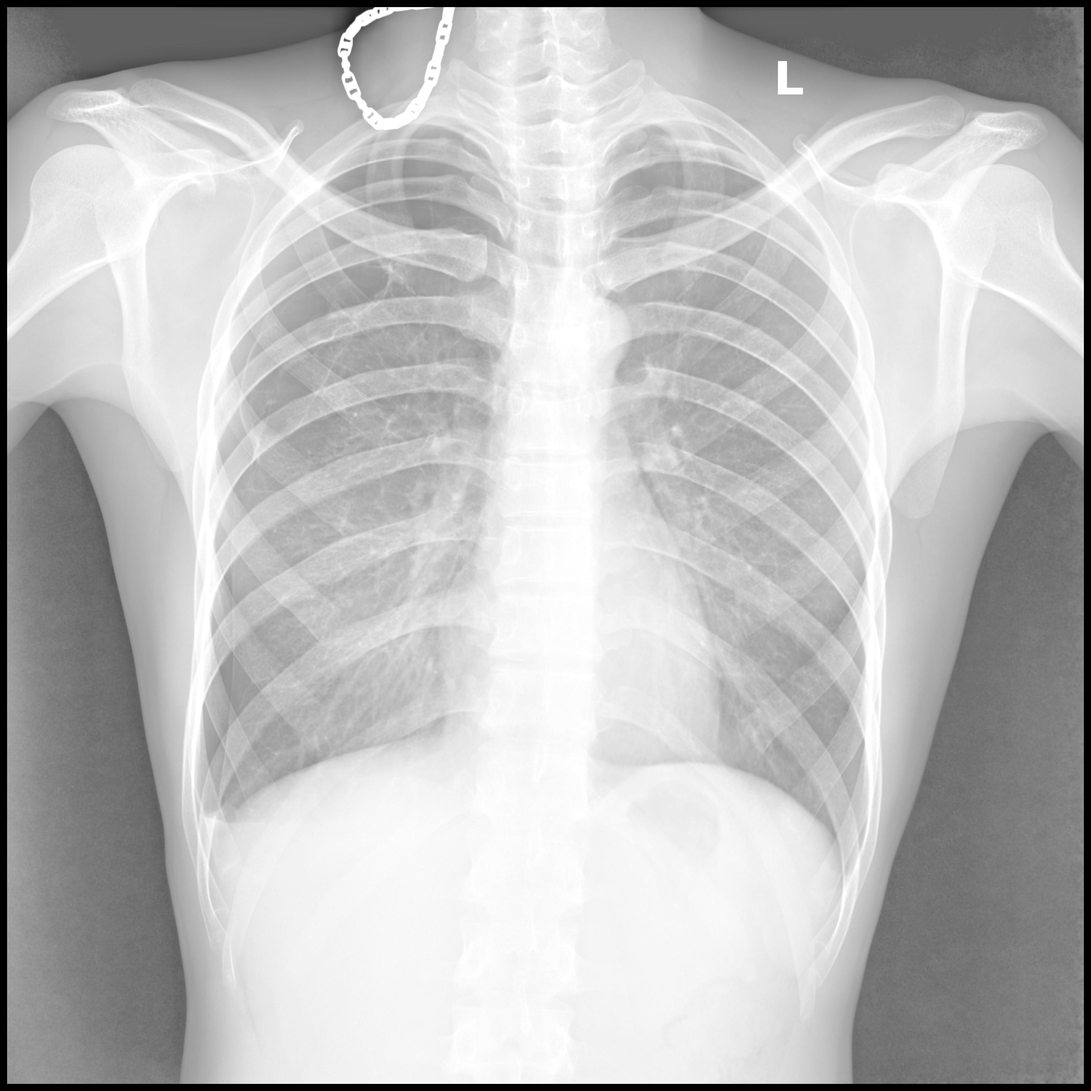Pleural thickening: (187, 800, 253, 868)
